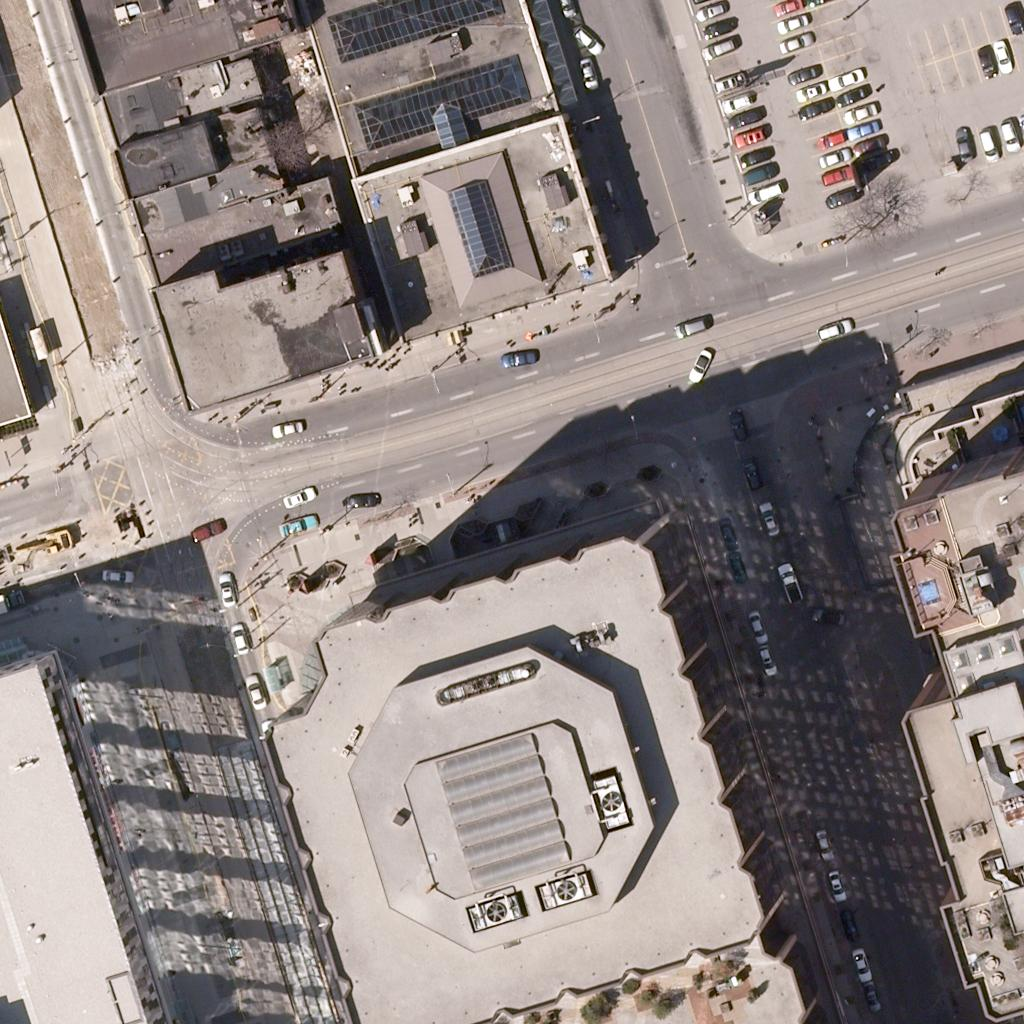car: (776, 5, 810, 39), (699, 7, 733, 41), (568, 21, 602, 55), (779, 23, 813, 57), (701, 33, 735, 67), (983, 36, 1017, 70), (968, 43, 1002, 77), (571, 55, 605, 89), (785, 57, 819, 91), (829, 60, 863, 94), (714, 65, 748, 99), (792, 74, 826, 108), (839, 76, 873, 110), (716, 85, 750, 119), (794, 91, 828, 125), (795, 91, 829, 125), (844, 94, 878, 128), (725, 99, 759, 133), (848, 111, 882, 145), (990, 116, 1024, 150), (733, 120, 767, 154), (811, 121, 845, 155), (968, 125, 1002, 159), (852, 126, 886, 160), (946, 130, 980, 164), (740, 136, 774, 170), (817, 140, 851, 174), (860, 144, 894, 178), (745, 156, 779, 190), (820, 156, 854, 190), (820, 157, 854, 191), (745, 174, 779, 208), (831, 176, 865, 210), (676, 310, 710, 344), (817, 311, 851, 345), (505, 339, 539, 373), (684, 344, 718, 378), (719, 410, 753, 444), (272, 412, 306, 446), (732, 458, 766, 492), (279, 478, 313, 512), (347, 482, 381, 516), (751, 504, 785, 538), (279, 507, 313, 541), (188, 513, 222, 547), (709, 516, 743, 550), (719, 548, 753, 582), (98, 558, 132, 592), (771, 566, 805, 600), (209, 576, 243, 610), (811, 599, 845, 633), (739, 609, 773, 643), (222, 624, 256, 658), (222, 625, 256, 659), (748, 642, 782, 676), (239, 678, 273, 712), (250, 713, 284, 747), (806, 825, 840, 859), (818, 867, 852, 901), (830, 906, 864, 940), (844, 947, 878, 981), (854, 980, 888, 1014), (994, 0, 1024, 32), (693, 0, 727, 26), (772, 0, 806, 23), (548, 0, 582, 17)
